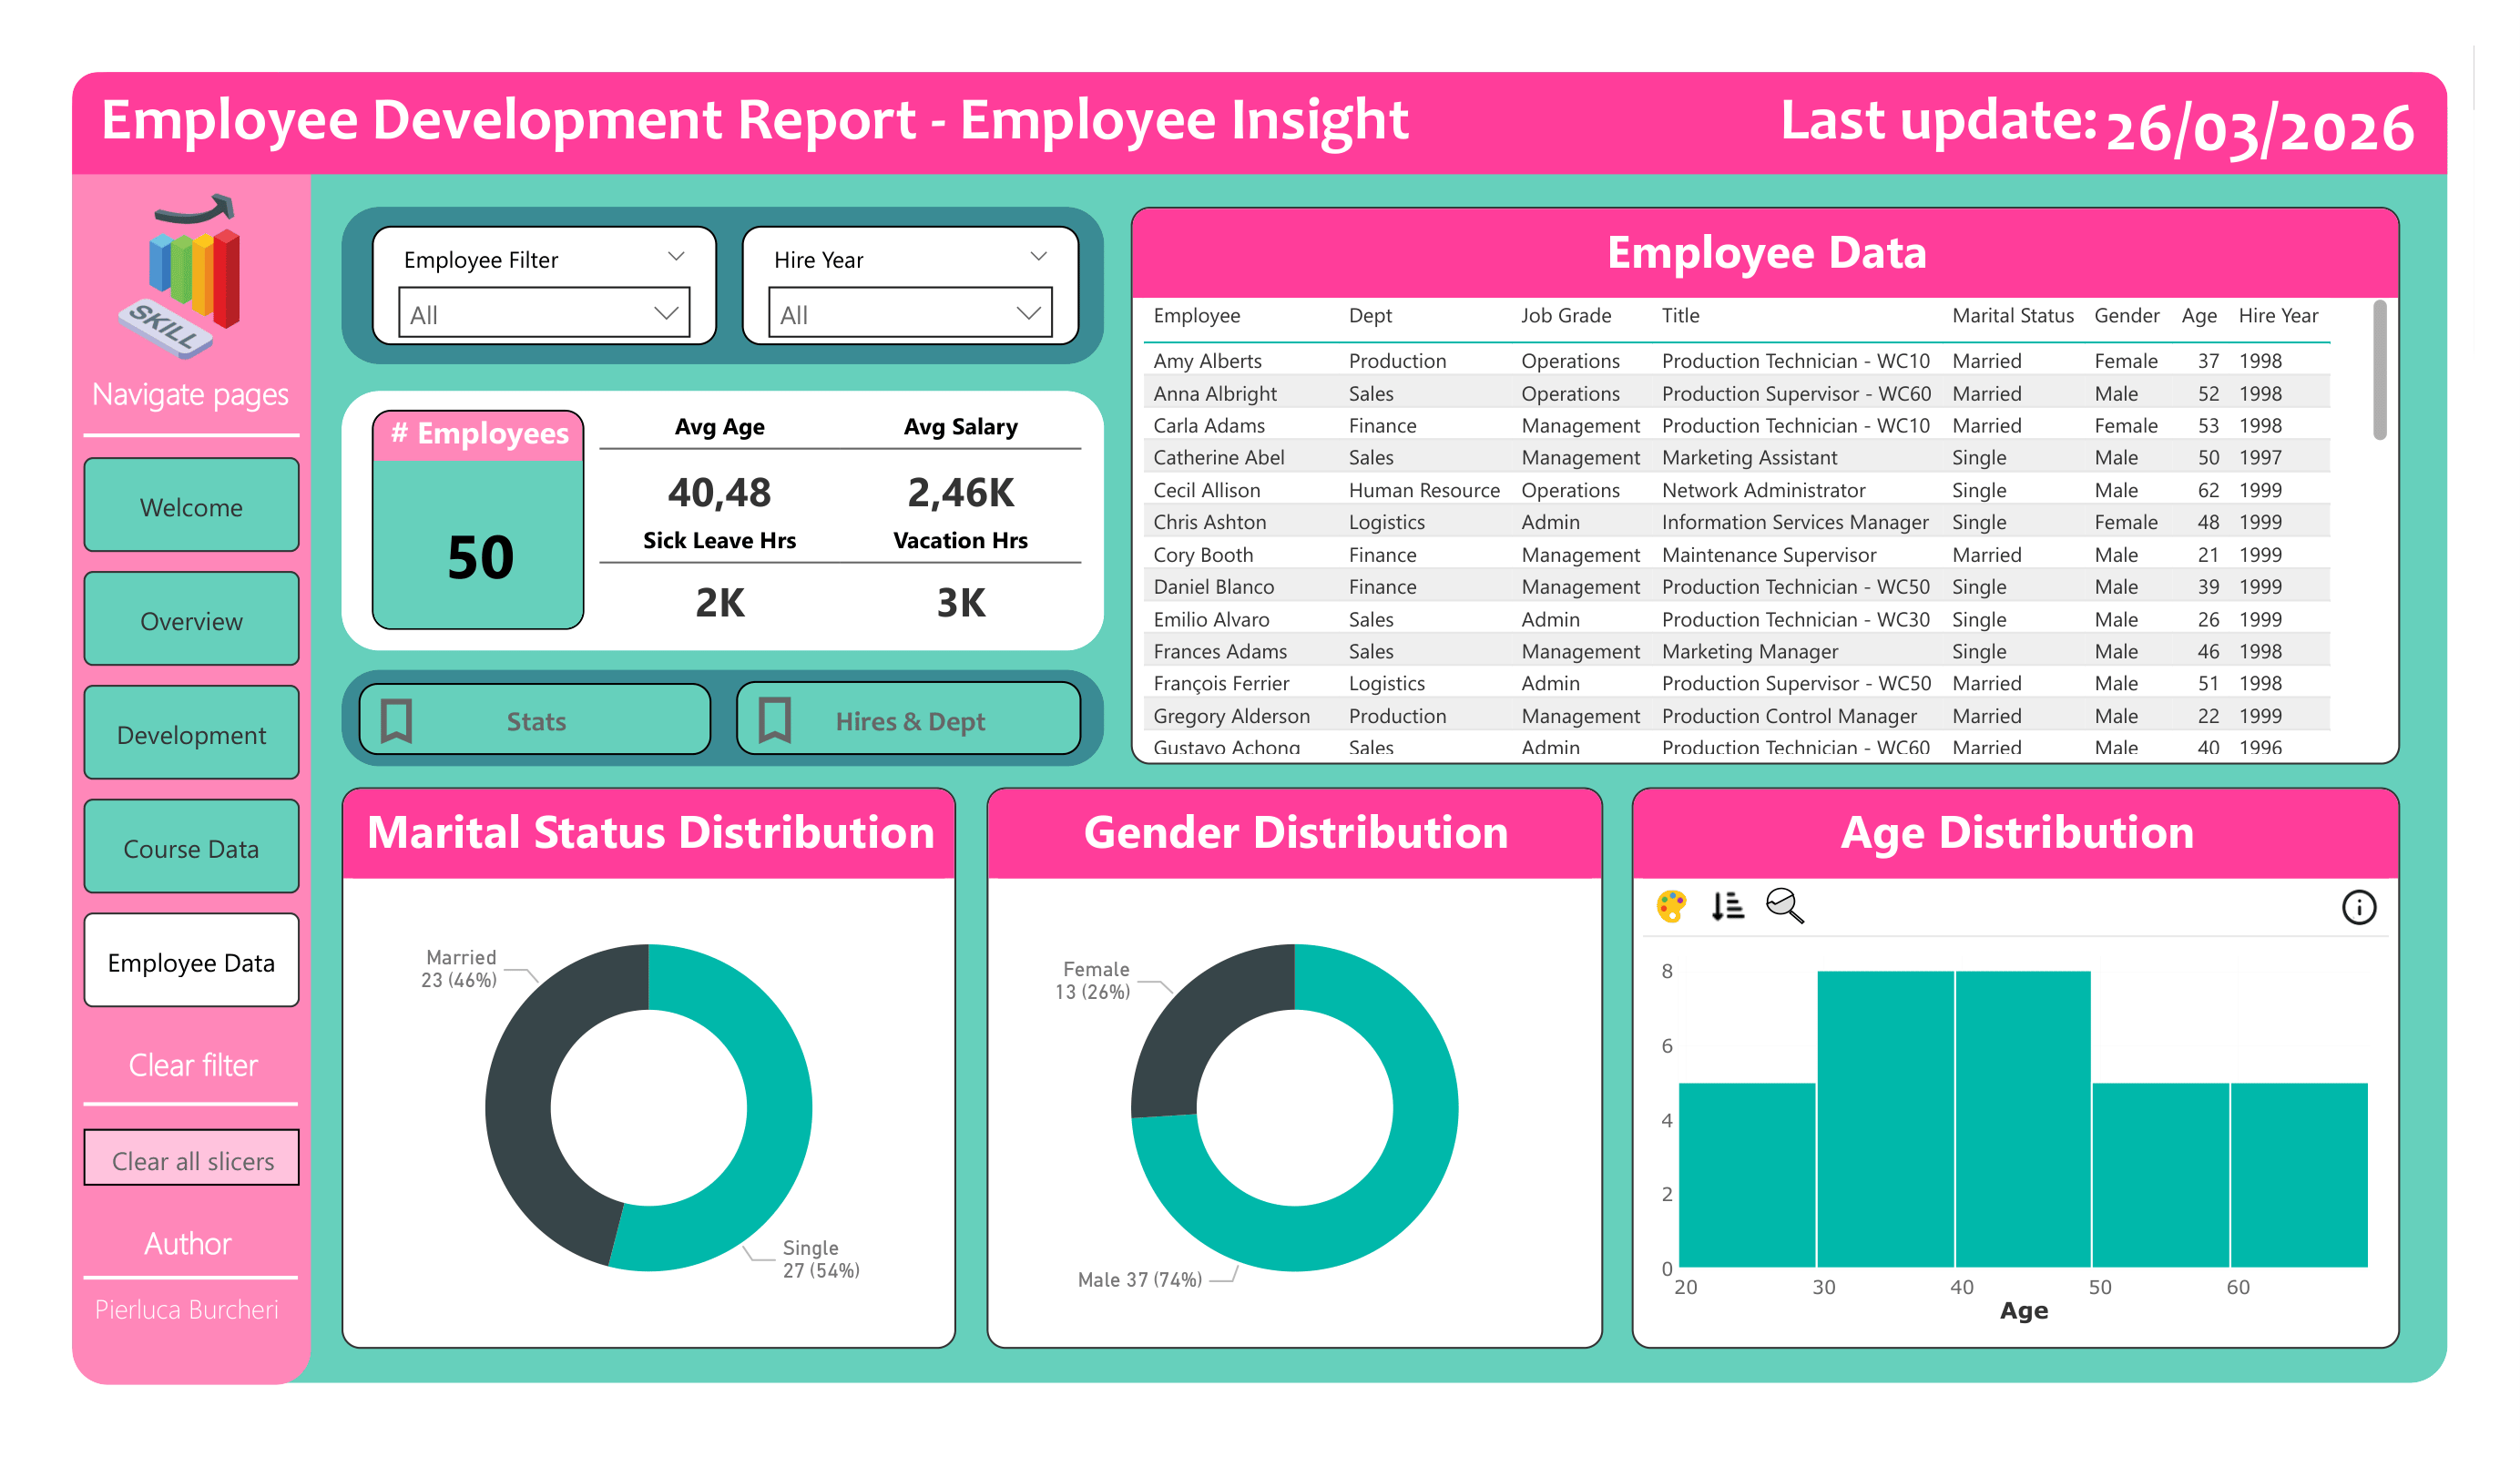

This screenshot's page, from the dashboard's own definition file:
{"tool":"powerbi","page":{"name":"Employee Data","canvas":[1280,720],"ordinal":4},"visuals":[{"type":"shape","box":[14.2,14.2,1251.6,690.6],"z":0},{"type":"cardVisual","title":"Avg Salary","fields":{"Data":["_Measures.Avg Salary"]},"box":[418.4,191.6,126.9,58.3],"z":0,"group":"g4"},{"type":"cardVisual","title":"Sick Leave Hrs","fields":{"Data":["Sum(Employee Data.SickLeaveHours)"]},"box":[291.5,251.4,126.9,55.1],"z":0,"group":"g5"},{"type":"shape","box":[20.5,629,113.4,41],"z":0,"group":"g1"},{"type":"shape","box":[14.2,14.2,126,691.5],"z":1000},{"type":"cardVisual","title":"Avg Age","fields":{"Data":["_Measures.Avg Age"]},"box":[291.5,191.6,126.9,58.3],"z":1000,"group":"g4"},{"type":"cardVisual","title":"Vacation Hrs","fields":{"Data":["Sum(Employee Data.VacationHours)"]},"box":[418.4,251.4,126.9,55.1],"z":1000,"group":"g5"},{"type":"textbox","box":[31.5,614.8,88.2,37.8],"z":1000,"group":"g1"},{"type":"shape","box":[14.2,14.2,1252.2,53.6],"z":2000},{"type":"textbox","box":[20.5,650.5,108.7,36.2],"z":2000,"group":"g1"},{"type":"textbox","box":[23.6,14.2,823.8,55.1],"z":3000},{"type":"textbox","box":[909.4,14.2,222.8,52.7],"z":4000},{"type":"card","fields":{"Values":["_Date Master.TODAY"]},"box":[1077.5,14.2,180.3,52.7],"z":5000},{"type":"tableEx","title":"Employee Data","fields":{"Values":["Employee Data.Employee","Employee Data.Dept","Employee Data.Job Grade","Employee Data.Title","Employee Data.Marital Status","Employee Data.Gender","Employee Data.Age","Employee Data.Hire Year"]},"box":[571.8,85.1,669.4,294],"z":6000},{"type":"shape","box":[155.9,85.1,401.6,83.5],"z":7000,"group":"g3"},{"type":"donutChart","title":"Gender Distribution","fields":{"Category":["Employee Data.Gender"],"Y":["CountNonNull(Employee Data.Employee)"]},"box":[496.2,390.6,324.5,296.1],"z":7000},{"type":"textbox","box":[7.9,167.4,137,31.5],"z":8000},{"type":"shape","box":[155.9,181.8,401.6,137],"z":9000,"group":"g2"},{"type":"shape","box":[20.5,184.7,113.4,41],"z":9000},{"type":"slicer","fields":{"Values":["Employee Data.Dept Hierarchy.Dept","Employee Data.Dept Hierarchy.Job Grade","Employee Data.Dept Hierarchy.Employee"]},"box":[171.7,94.8,182.7,63.7],"z":10000,"group":"g3"},{"type":"group","id":"g1","title":"Group 1","box":[20.5,614.8,113.4,71.9],"z":10000},{"type":"actionButton","box":[20.5,570.6,113.4,29.9],"z":11000},{"type":"slicer","fields":{"Values":["Employee Data.HireDate.Variation.Date Hierarchy.Year"]},"box":[367,94.8,178,63.7],"z":12000,"group":"g3"},{"type":"shape","box":[20,537.6,113.4,40.5],"z":12000},{"type":"textbox","box":[7.9,521.4,139.7,38.5],"z":13000},{"type":"pageNavigator","box":[20.5,217.4,113.4,289.8],"z":14000},{"type":"image","box":[0,67.7,140.2,107.1],"z":15000},{"type":"histogramF963F133BA02A0B35D286F09F80E9C78","title":"Age Distribution","fields":{"col_2":["Employee Data.Age"]},"box":[836.4,390.6,404.8,296.1],"z":16000},{"type":"donutChart","title":"Marital Status Distribution","fields":{"Y":["CountNonNull(Employee Data.Employee)"],"Category":["Employee Data.Marital Status"]},"box":[155.9,390.6,324.5,296.1],"z":17000},{"type":"group","id":"g2","title":"Group 4","box":[155.9,181.8,401.6,137],"z":20000},{"type":"group","id":"g3","title":"Group 5","box":[155.9,85.1,401.6,83.5],"z":21000},{"type":"group","id":"g4","title":"Group 2","box":[291.5,191.6,253.6,58.3],"z":21000,"group":"g2"},{"type":"group","id":"g5","title":"Group 3","box":[291.5,251.4,253.6,55.1],"z":22000,"group":"g2"},{"type":"shape","box":[155.9,329.2,401.8,50.9],"z":22000,"group":"g6"},{"type":"actionButton","box":[165.4,336.6,185.6,37.2],"z":23000,"group":"g6"},{"type":"actionButton","box":[363.7,335.4,182.4,38.4],"z":24000,"group":"g6"},{"type":"group","id":"g6","title":"Group 6","box":[155.9,329.2,401.6,50.4],"z":24001},{"type":"cardVisual","title":"# Employees","fields":{"Data":["Count(Employee Data.Employee)"]},"box":[171.7,191.5,111.8,116.4],"z":27000,"group":"g2"}]}

Visuals, with their boxes on the page's 1280x720 design canvas (x1, y1, x2, y2). These are canvas units, not pixel positions in the 2520x1457 screenshot, which may show the page scaled, cropped or inside an application window:
shape: detection(14, 14, 1266, 705)
"Avg Salary" cardVisual: detection(418, 192, 545, 250)
"Sick Leave Hrs" cardVisual: detection(292, 251, 418, 306)
shape: detection(20, 629, 134, 670)
shape: detection(14, 14, 140, 706)
"Avg Age" cardVisual: detection(292, 192, 418, 250)
"Vacation Hrs" cardVisual: detection(418, 251, 545, 306)
textbox: detection(32, 615, 120, 653)
shape: detection(14, 14, 1266, 68)
textbox: detection(20, 650, 129, 687)
textbox: detection(24, 14, 847, 69)
textbox: detection(909, 14, 1132, 67)
card - _Date Master.TODAY: detection(1078, 14, 1258, 67)
"Employee Data" tableEx: detection(572, 85, 1241, 379)
shape: detection(156, 85, 558, 169)
"Gender Distribution" donutChart: detection(496, 391, 821, 687)
textbox: detection(8, 167, 145, 199)
shape: detection(156, 182, 558, 319)
shape: detection(20, 185, 134, 226)
slicer - Employee Data.Dept Hierarchy.Dept x Employee Data.Dept Hierarchy.Job Grade: detection(172, 95, 354, 158)
"Group 1" group: detection(20, 615, 134, 687)
actionButton: detection(20, 571, 134, 600)
slicer - Employee Data.HireDate.Variation.Date Hierarchy.Year: detection(367, 95, 545, 158)
shape: detection(20, 538, 133, 578)
textbox: detection(8, 521, 148, 560)
pageNavigator: detection(20, 217, 134, 507)
image: detection(0, 68, 140, 175)
"Age Distribution" histogramF963F133BA02A0B35D286F09F80E9C78: detection(836, 391, 1241, 687)
"Marital Status Distribution" donutChart: detection(156, 391, 480, 687)
"Group 4" group: detection(156, 182, 558, 319)
"Group 5" group: detection(156, 85, 558, 169)
"Group 2" group: detection(292, 192, 545, 250)
"Group 3" group: detection(292, 251, 545, 306)
shape: detection(156, 329, 558, 380)
actionButton: detection(165, 337, 351, 374)
actionButton: detection(364, 335, 546, 374)
"Group 6" group: detection(156, 329, 558, 380)
"# Employees" cardVisual: detection(172, 192, 284, 308)
